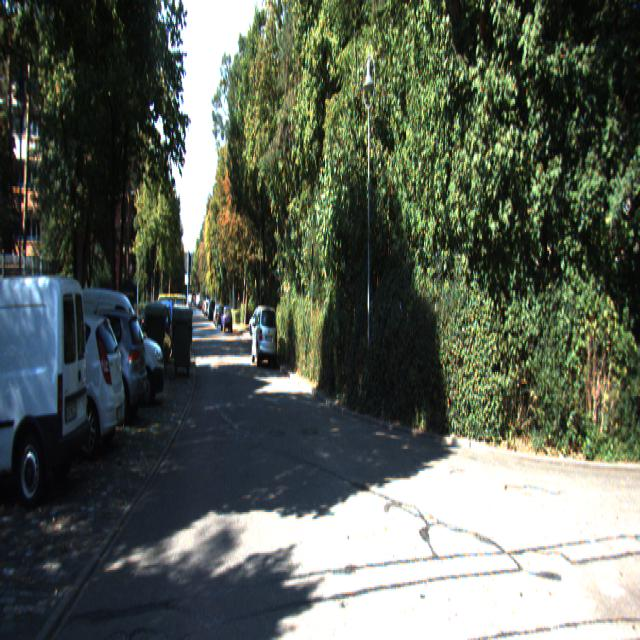Car: (0, 274, 91, 513), (0, 309, 128, 469), (40, 311, 149, 437), (77, 291, 166, 414), (252, 306, 278, 372)
